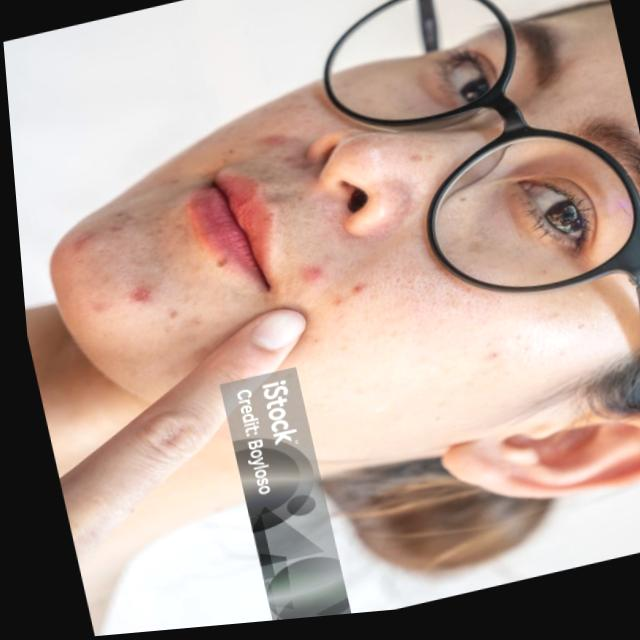papule: (113, 281, 157, 312), (287, 261, 328, 290), (254, 134, 293, 155), (62, 232, 91, 257), (400, 158, 431, 178), (280, 157, 304, 179), (342, 283, 368, 303), (81, 302, 106, 318), (323, 301, 344, 317), (102, 224, 123, 236)
